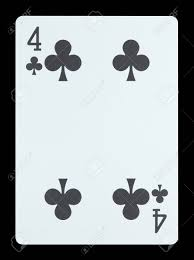four of clubs: (17, 15, 179, 244)
